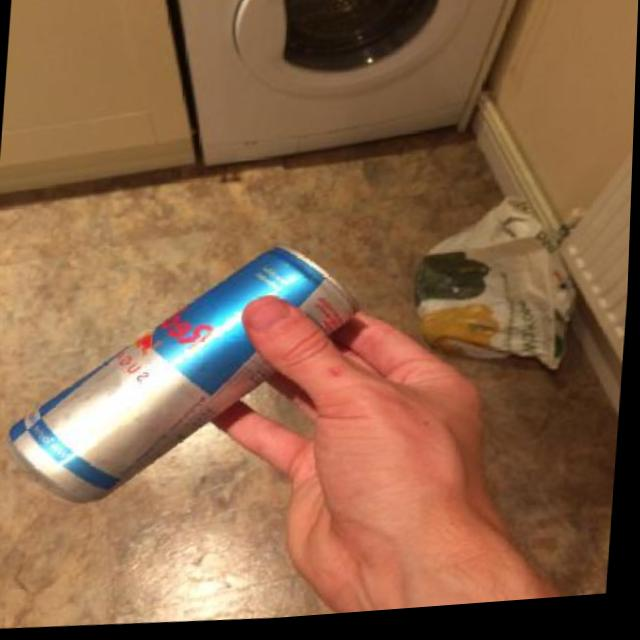metal: (0, 228, 369, 521)
plastic: (407, 186, 586, 383)
